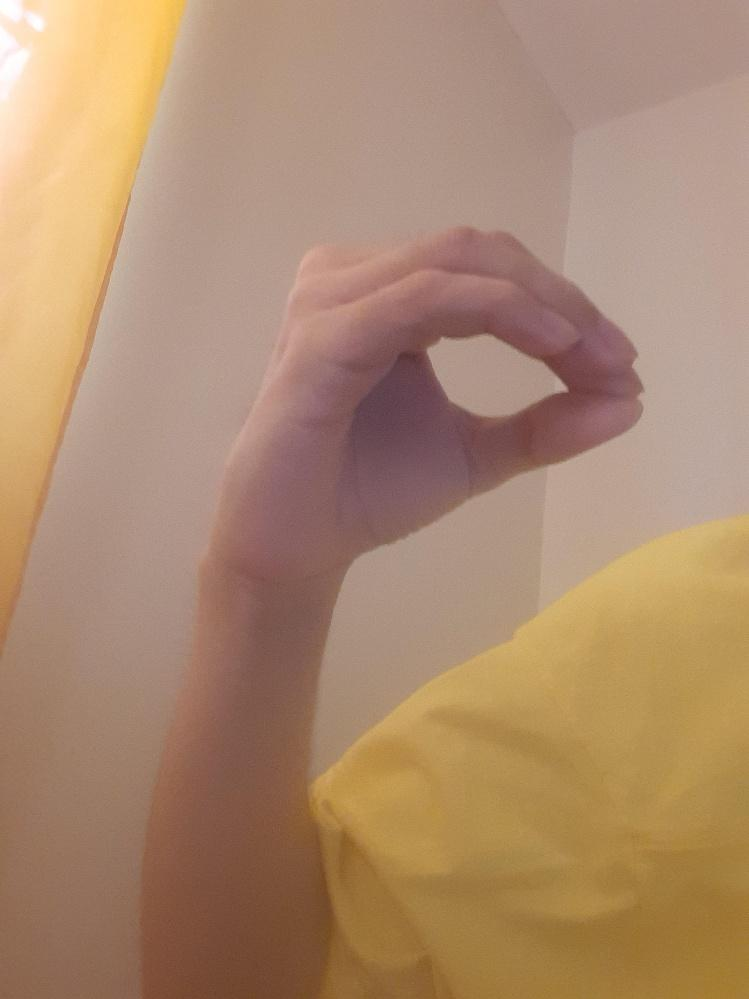o: (251, 225, 645, 554)
